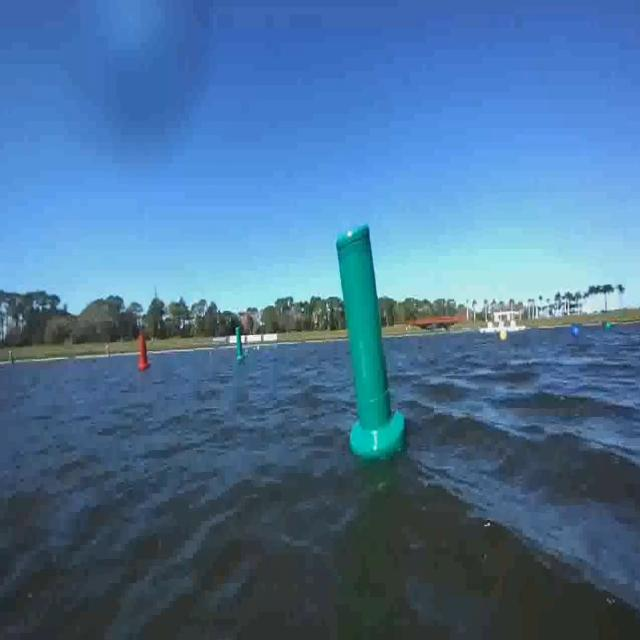blue-buoy: (571, 324, 580, 339)
green-buoy: (605, 321, 612, 331)
green-column-buoy: (335, 223, 404, 462), (235, 328, 247, 360)
red-column-buoy: (138, 332, 152, 370)
yellow-buoy: (499, 330, 507, 344)
